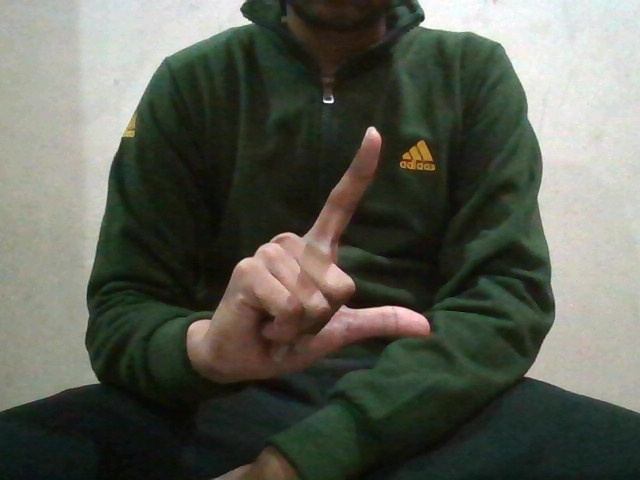L: (212, 115, 434, 375)
